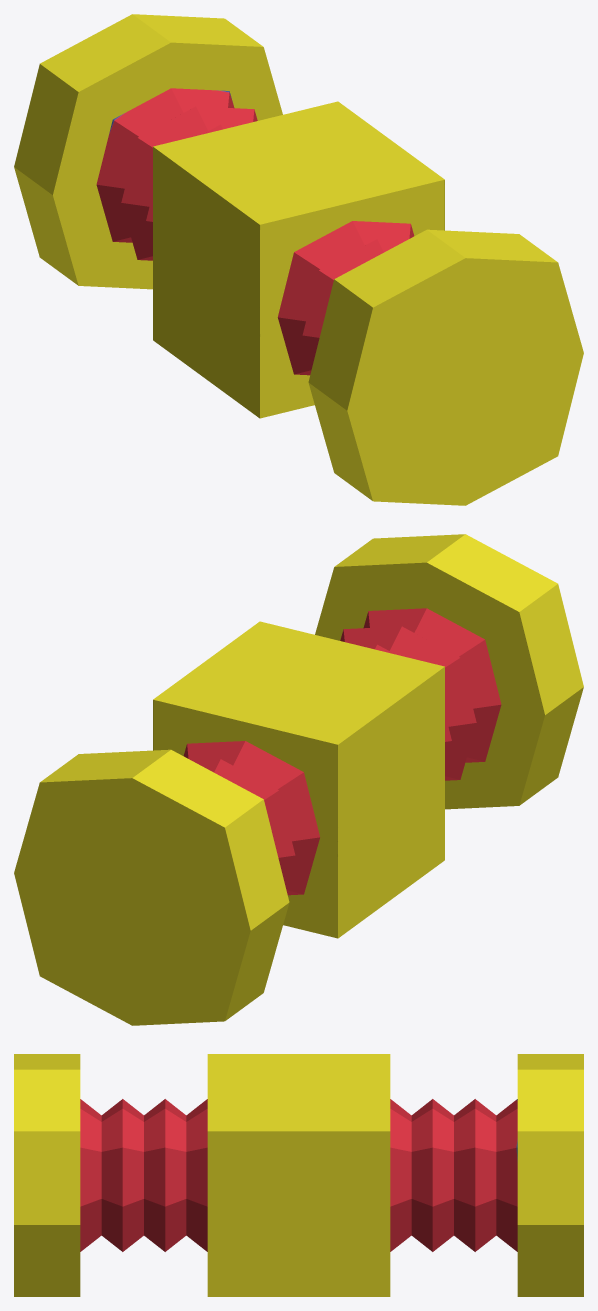
Rendered from ToyHammer_Head.fbx.
3 renders of one model, top to bottom at view 1: azimuth 30°, elevation 25°; view 2: azimuth 150°, elevation 25°; view 3: azimuth 270°, elevation 25°, orthographic. The views are drawn at different scales.
Parts seen in each view (by area): view 1: ToyHammer_Head; view 2: ToyHammer_Head; view 3: ToyHammer_Head.
Boxes of the visible parts, x1,y1,x2,y2 form: ToyHammer_Head: (14, 14, 583, 505); ToyHammer_Head: (14, 534, 583, 1025); ToyHammer_Head: (14, 1054, 583, 1296).
Bounding box in the file's own units: 42.44 × 42.44 × 103.
Materials: 1 (1 with a texture image).
